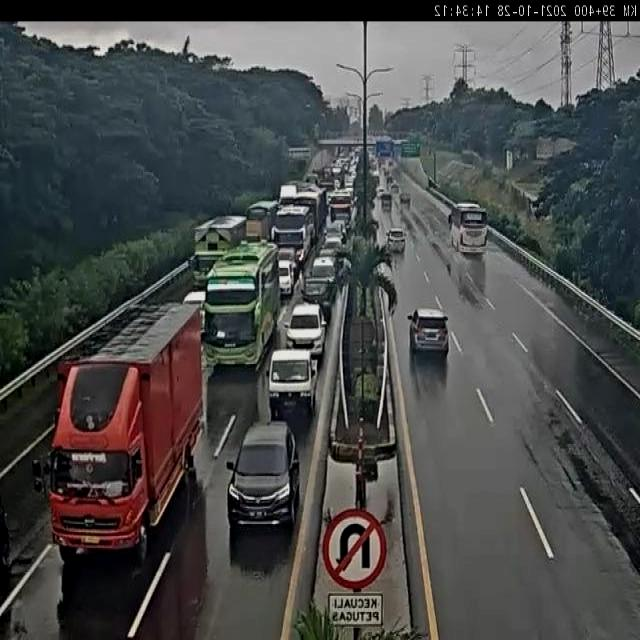Bus: (202, 245, 279, 375), (448, 202, 489, 252)
Car: (226, 422, 299, 534), (269, 349, 317, 409), (282, 302, 326, 352), (407, 308, 451, 355), (386, 227, 408, 249)
Truck: (46, 300, 204, 563)
